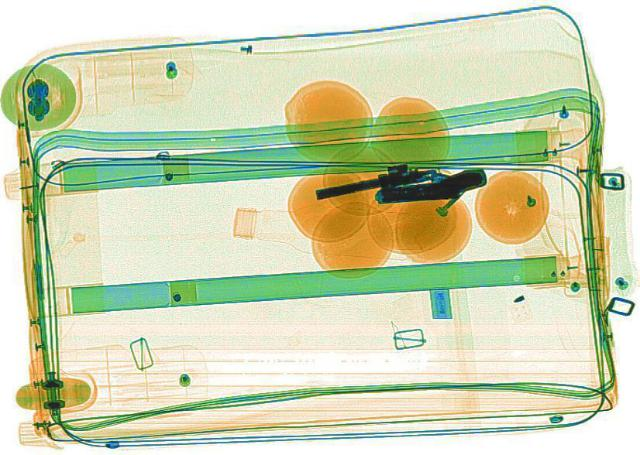Gun: (309, 164, 446, 199), (369, 169, 488, 203)
